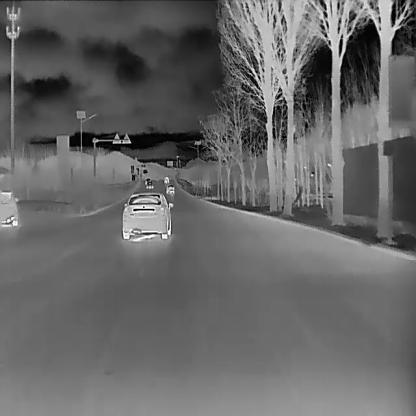car: (121, 191, 173, 239), (0, 187, 18, 227), (164, 183, 175, 193), (146, 180, 154, 188), (143, 177, 150, 185), (163, 175, 169, 183)
sign_danger: (121, 131, 133, 144), (110, 134, 120, 145)
